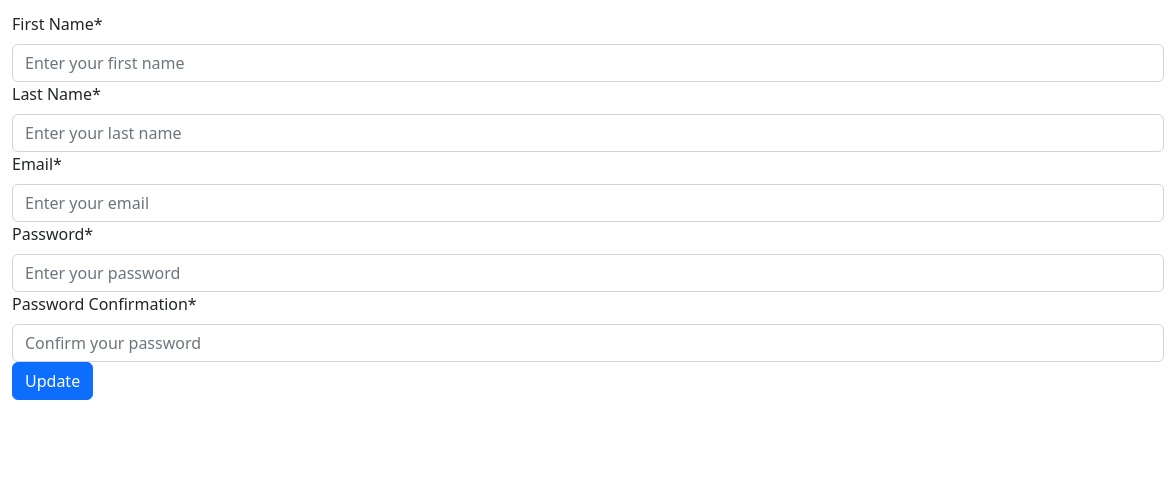
it: The User Profile Component › displays an error message if email is blank
Type "Nick" into the field labelled "First Name*" at (588, 63), box top-left (12, 44), bottom-right (1164, 82)
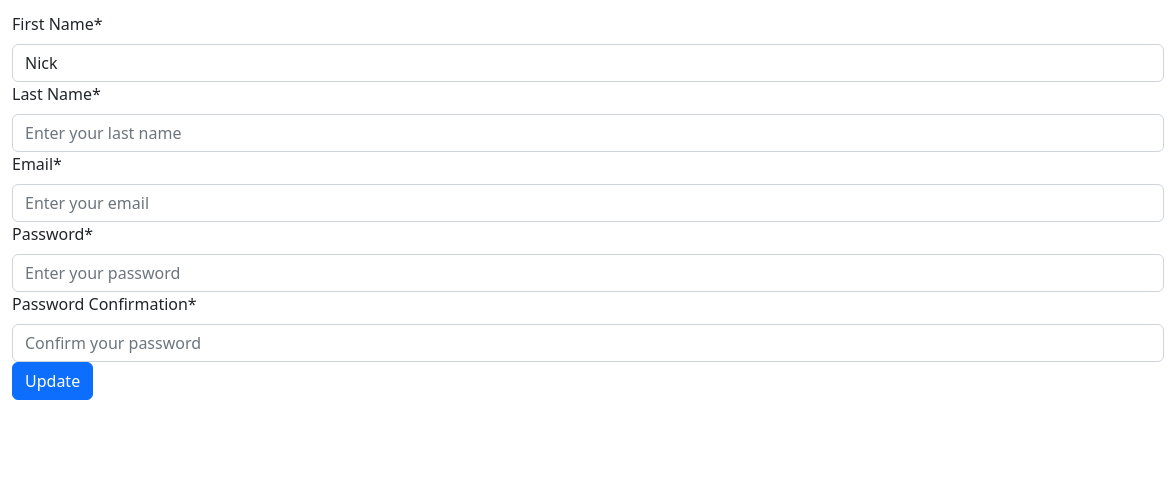
Type "Avalos" into the field labelled "Last Name*" at (588, 133), box top-left (12, 114), bottom-right (1164, 152)
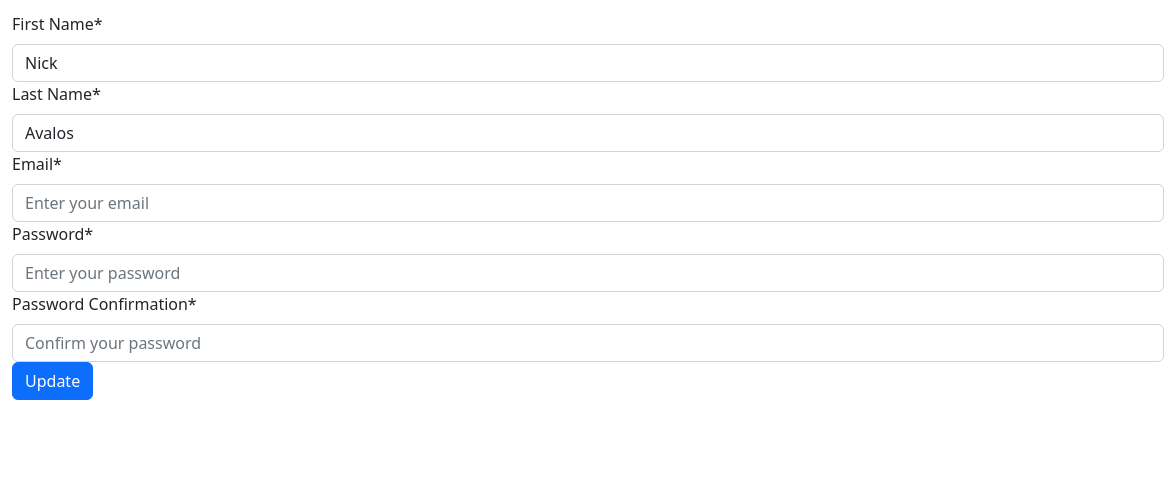
Type "NicksPassword1" into the password field labelled "Password*" at (588, 273), box top-left (12, 254), bottom-right (1164, 292)
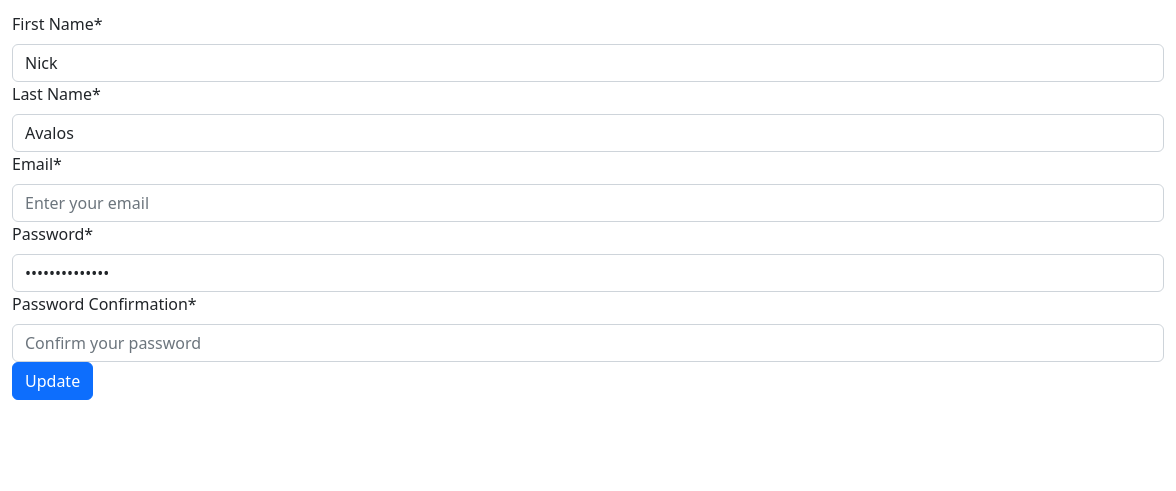
Type "NicksPassword1" into the password field labelled "Password Confirmation*" at (588, 343), box top-left (12, 324), bottom-right (1164, 362)
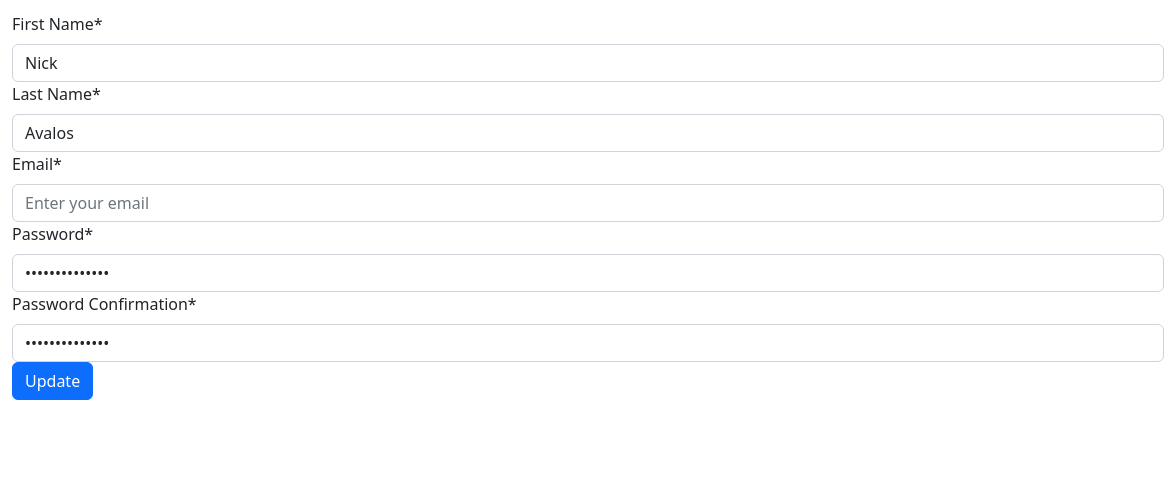
Click the button "Update" at (53, 381), box top-left (12, 362), bottom-right (93, 400)
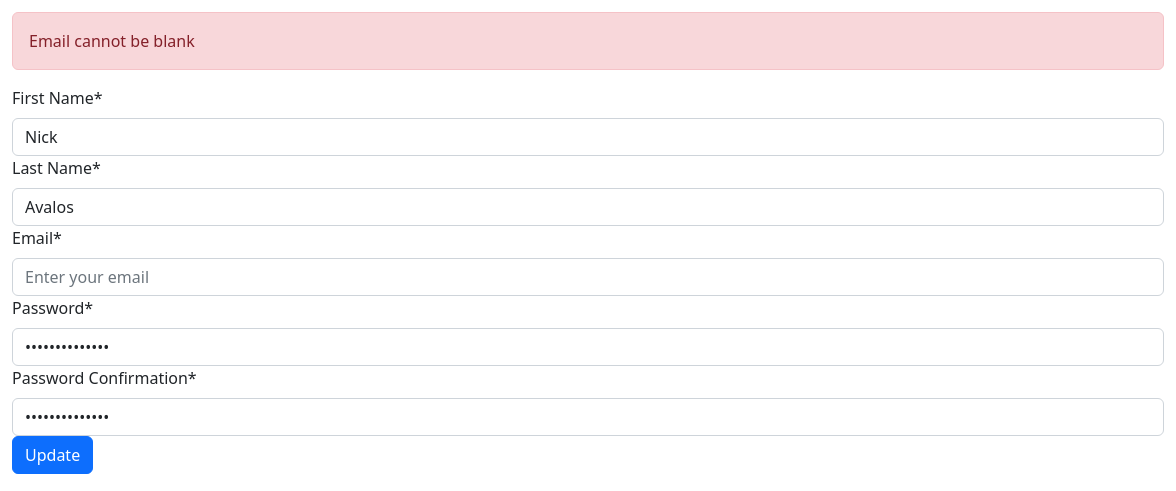
Check: the text "Email cannot be blank" is shown, box top-left (12, 12), bottom-right (1164, 70)
